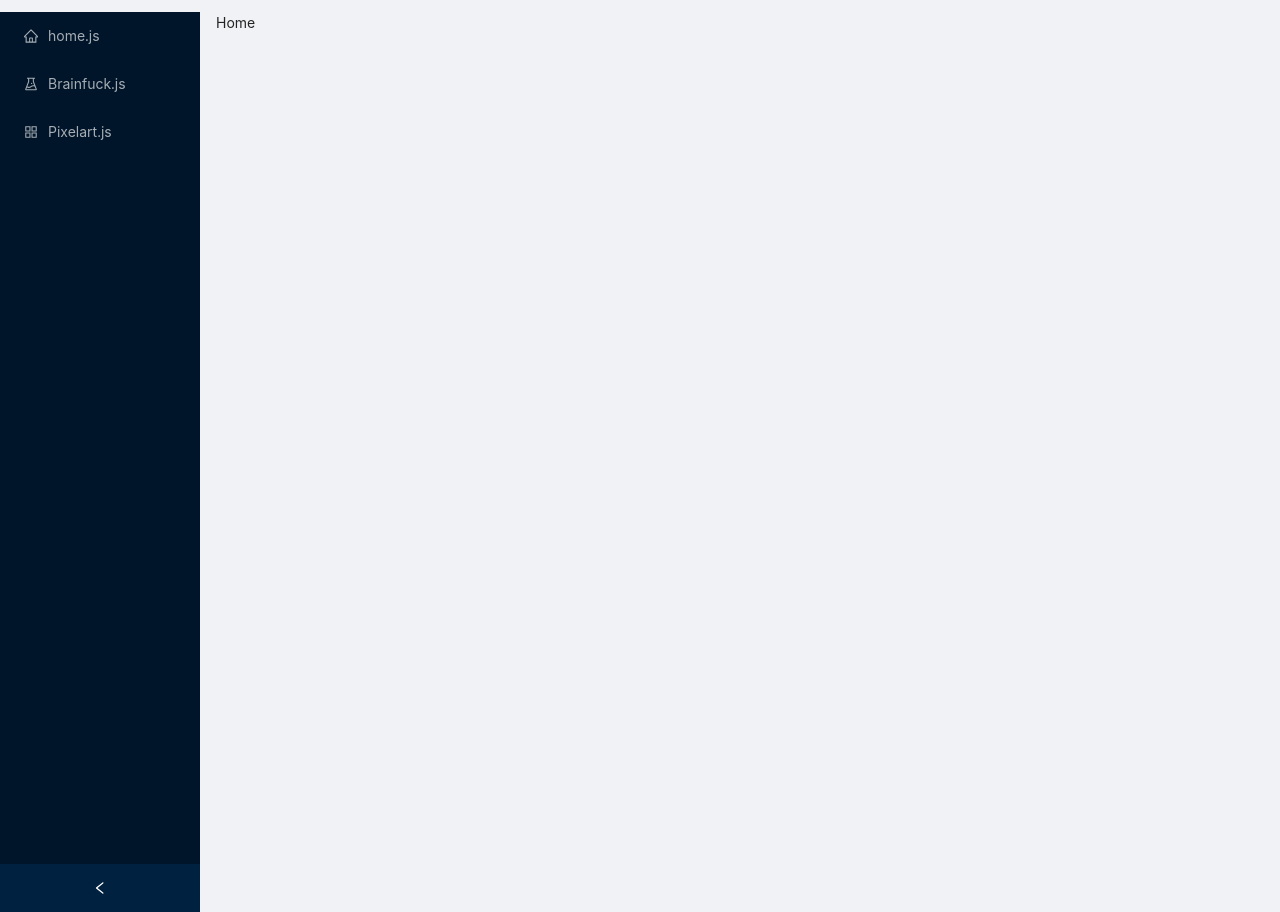
Test case: changes to brainfuck page and back to home
This screenshot has width=1280, height=912.
Expected: the text "Home" is shown, [216, 14, 255, 31]
Step 1. Click the menu item "Brainfuck.js" → (75, 84), box [24, 75, 126, 92]
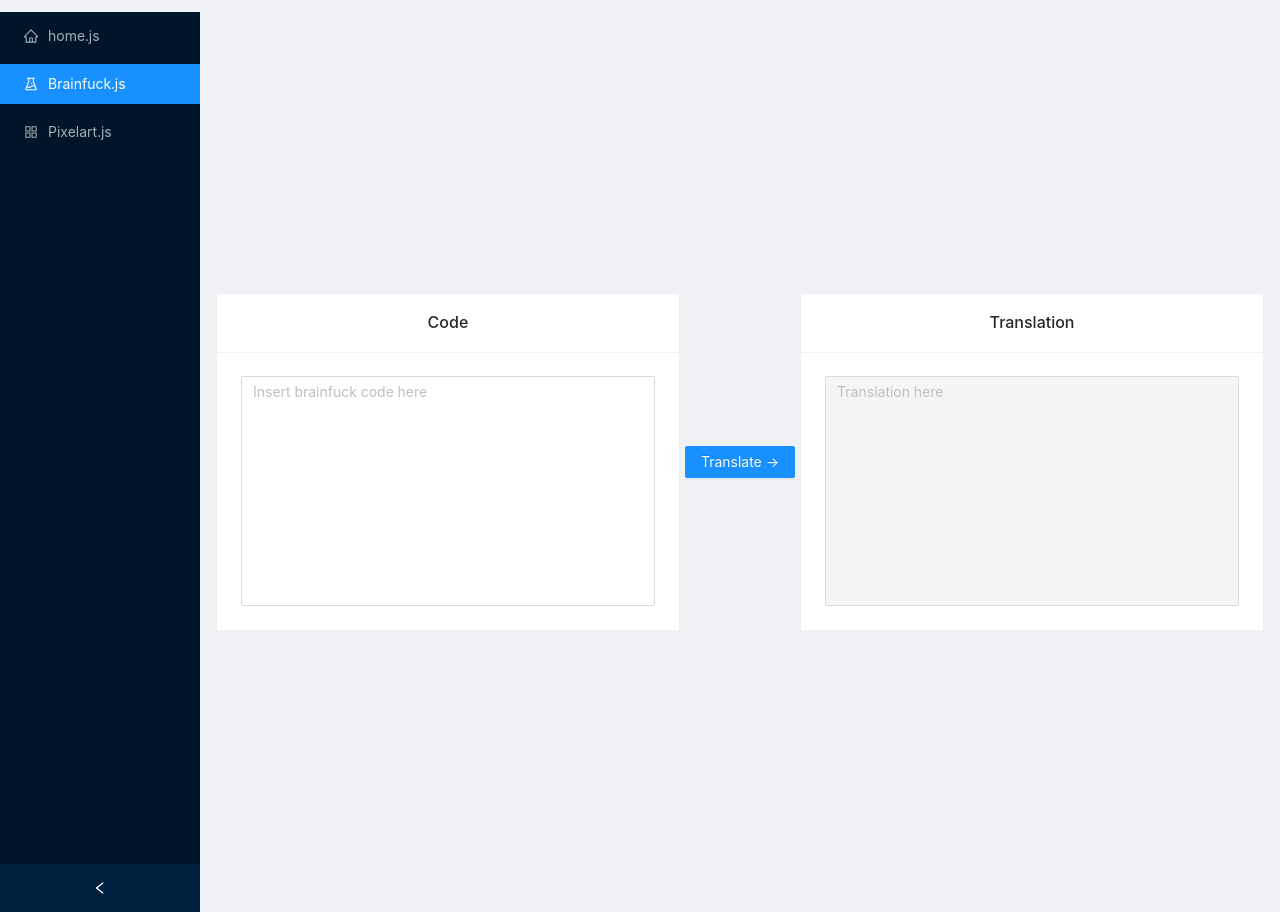
Result: the element with test id "brainfuck-page" is shown at [216, 293, 1264, 630]
Step 2. Click the menu item "home.js" → (62, 36), box [24, 27, 100, 44]
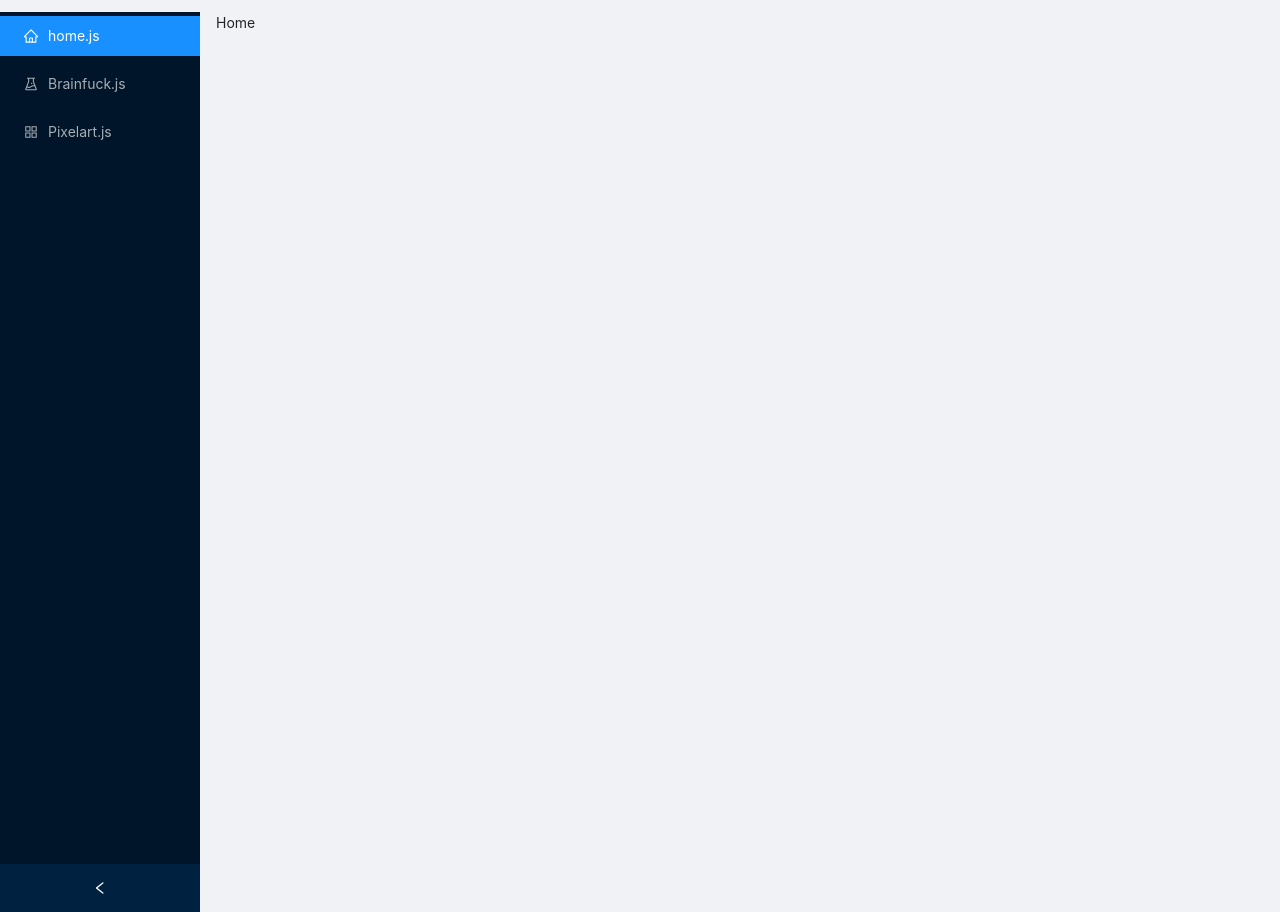
Result: the text "Home" is shown at [216, 14, 255, 31]
